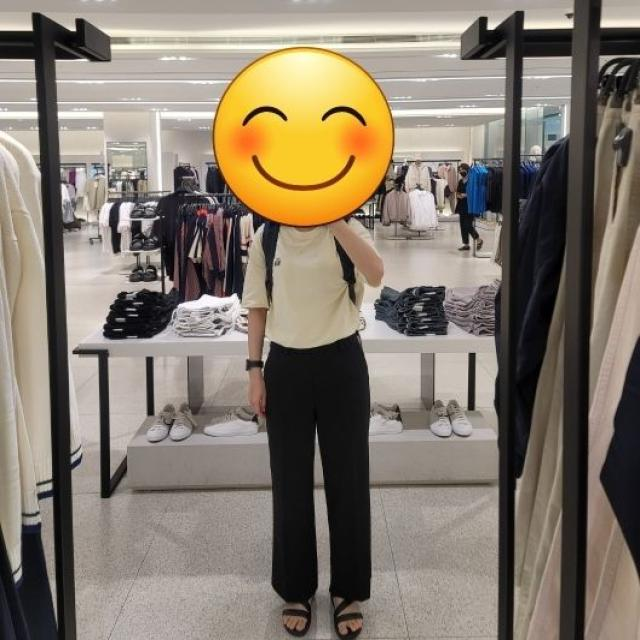shortsleeve: (245, 218, 373, 349)
slacks: (263, 334, 373, 603)
